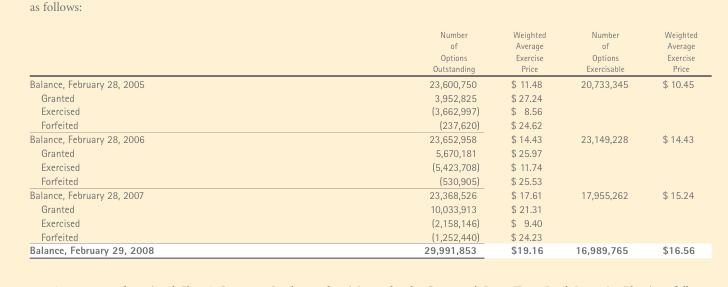table: (28, 28, 696, 256)
table column: (28, 28, 288, 256), (288, 28, 494, 256), (559, 28, 644, 256), (494, 28, 559, 256), (644, 28, 696, 256)
table column header: (28, 28, 696, 74)
table row: (28, 28, 696, 74), (28, 74, 696, 89), (28, 89, 696, 103), (28, 103, 696, 117), (28, 117, 696, 131), (28, 131, 696, 145), (28, 145, 696, 159), (28, 159, 696, 173), (28, 173, 696, 187), (28, 187, 696, 201), (28, 214, 696, 228), (28, 228, 696, 242), (28, 242, 696, 256), (28, 201, 696, 214)
